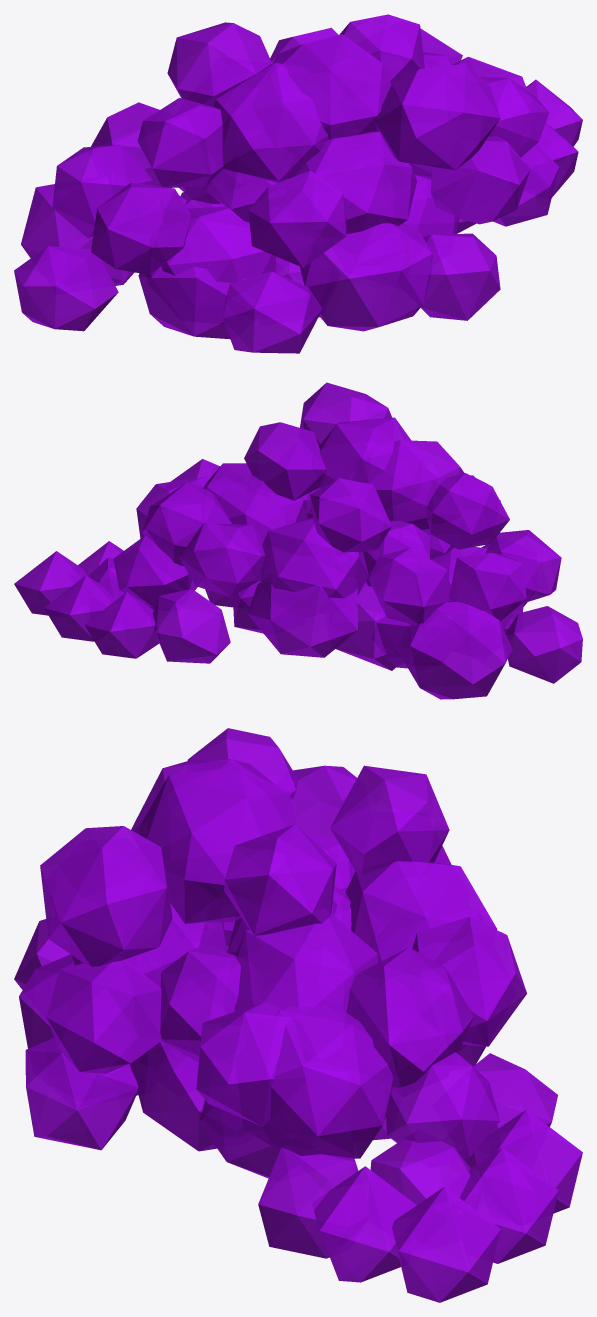
The model's file is crystals.fbx.
3 views of the same model, one above another, from view 1: azimuth 30°, elevation 25°; view 2: azimuth 150°, elevation 25°; view 3: azimuth 270°, elevation 25° (orthographic). The views are drawn at different scales.
Parts seen in each view (by area): view 1: Low Poly Purple Grapes; view 2: Low Poly Purple Grapes; view 3: Low Poly Purple Grapes.
Part boxes in pixels (box(x1,y1,x2,y2)): Low Poly Purple Grapes: box(14, 14, 582, 353); Low Poly Purple Grapes: box(14, 382, 582, 699); Low Poly Purple Grapes: box(14, 728, 582, 1302).
Bounding box in the file's own units: 19.87 × 7.8 × 12.
